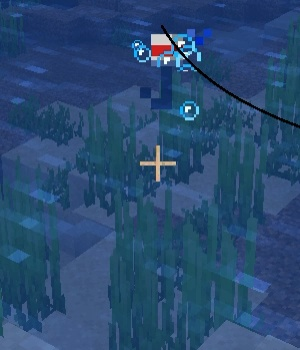up: (141, 28, 186, 117)
